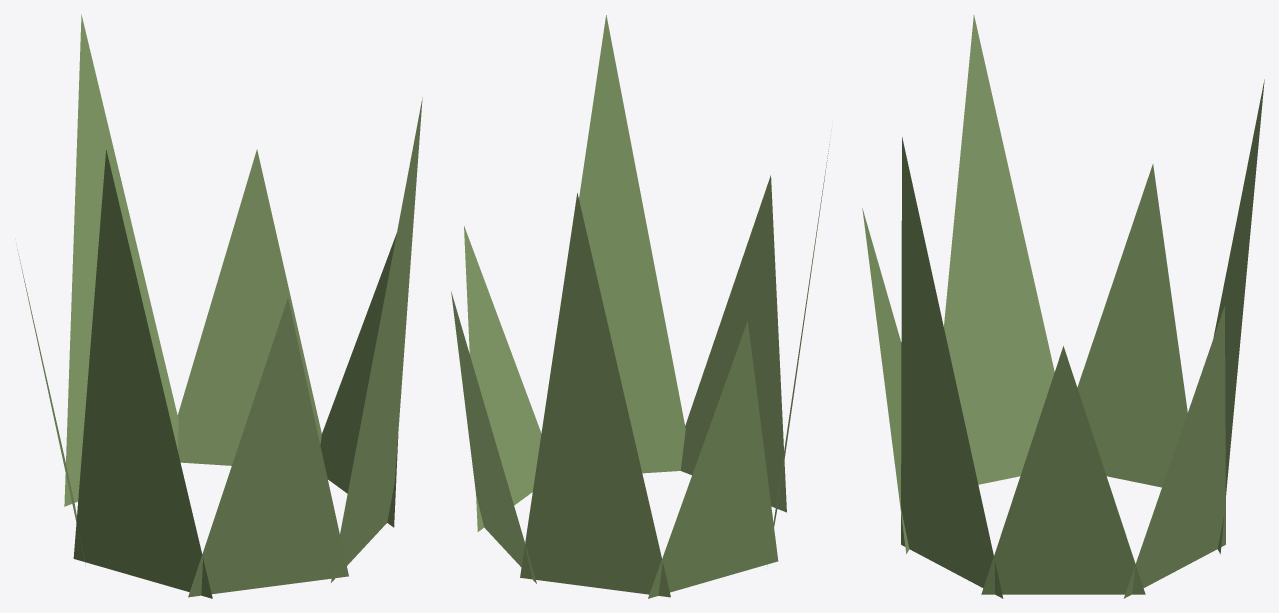
Rendered from Grass.glb.
3 views of the same model, side by side, from view 1: azimuth 30°, elevation 25°; view 2: azimuth 150°, elevation 25°; view 3: azimuth 270°, elevation 25° (orthographic). The views are drawn at different scales.
Parts seen in each view (by area): view 1: Grass Tuft; view 2: Grass Tuft; view 3: Grass Tuft.
Boxes of the visible parts, left/top/right/bottom form: Grass Tuft: left=17, top=14, right=422, bottom=598; Grass Tuft: left=451, top=15, right=831, bottom=598; Grass Tuft: left=862, top=15, right=1264, bottom=598.
Size of the model in its own units: 0.3583 by 0.4559 by 0.3675.
